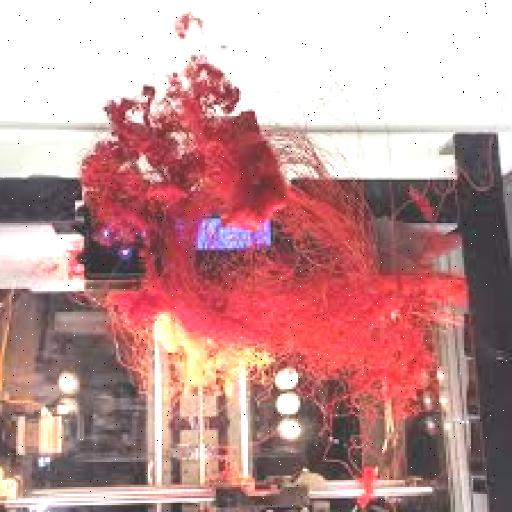spaghetti: (61, 51, 461, 434)
